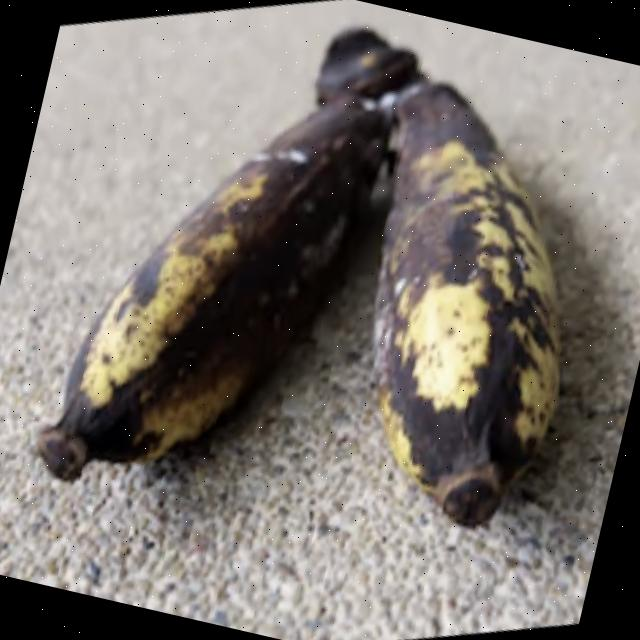Rotten: (12, 0, 430, 557), (306, 19, 640, 574)
